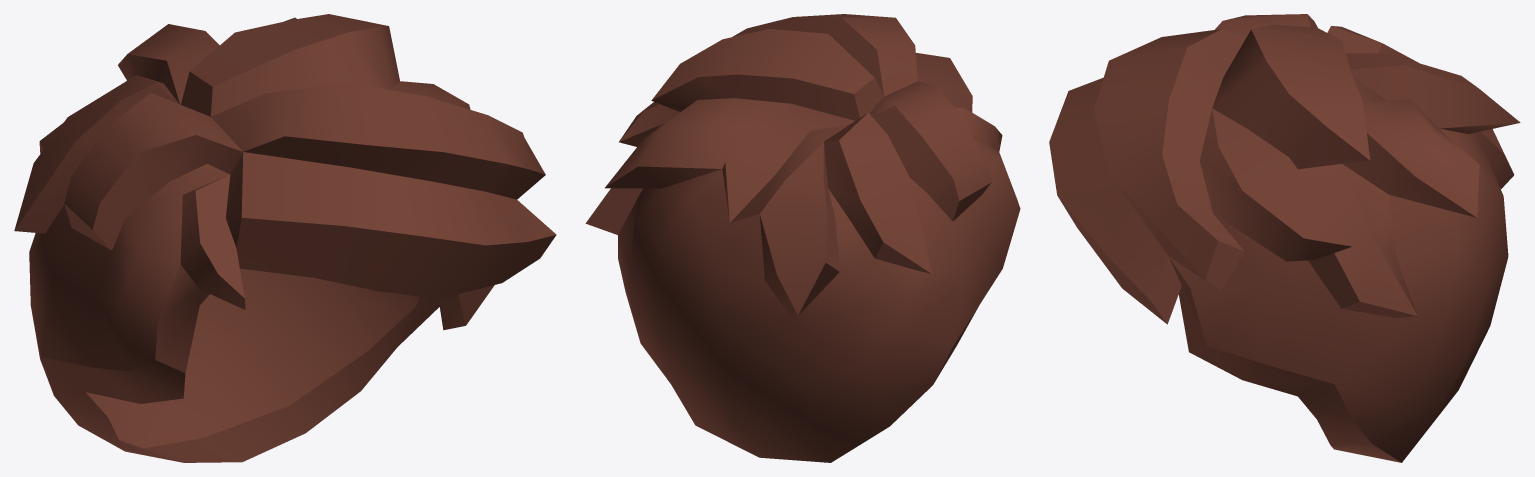
Rendered from Male_Hairs_01.fbx.
3 views of the same model, side by side, from view 1: azimuth 30°, elevation 25°; view 2: azimuth 150°, elevation 25°; view 3: azimuth 270°, elevation 25° (orthographic). The views are drawn at different scales.
Visible parts, largest first — view 1: Male_Hairs_01; view 2: Male_Hairs_01; view 3: Male_Hairs_01.
Part boxes in pixels (x1,y1,x2,y2): Male_Hairs_01: [14, 14, 556, 462]; Male_Hairs_01: [585, 14, 1020, 462]; Male_Hairs_01: [1049, 14, 1520, 462].
Size of the model in its own units: 65.25 by 64.78 by 67.13.
